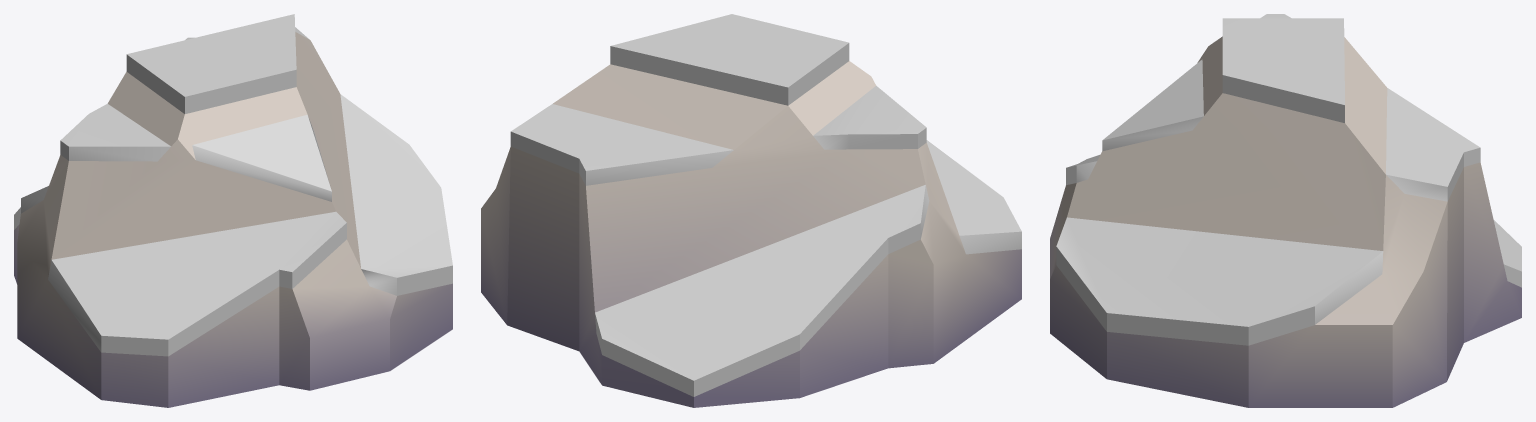
Rendered from rock6.fbx.
3 views of the same model, side by side, from view 1: azimuth 30°, elevation 25°; view 2: azimuth 150°, elevation 25°; view 3: azimuth 270°, elevation 25° (orthographic). The views are drawn at different scales.
Parts seen in each view (by area): view 1: Rock6; view 2: Rock6; view 3: Rock6.
Part boxes in pixels (x1,y1,x2,y2): Rock6: (14, 14, 452, 407); Rock6: (481, 14, 1021, 407); Rock6: (1050, 14, 1521, 407).
Bounding box in the file's own units: 200 × 118 × 200.
